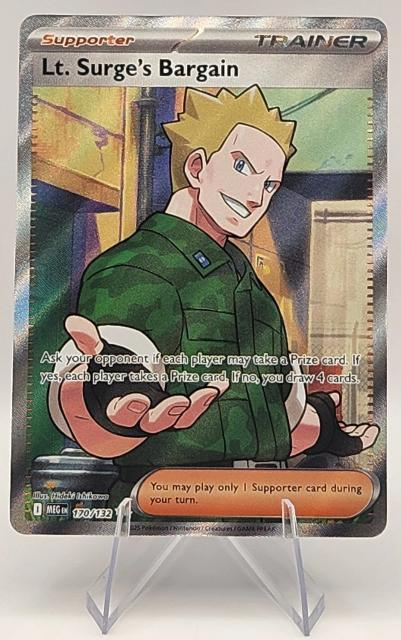Card: (7, 12, 392, 540)
Name: (35, 52, 243, 85)
